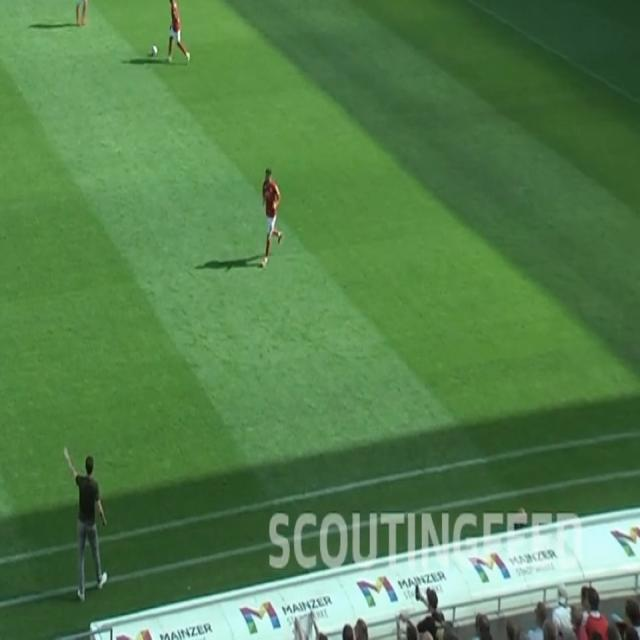ball: (150, 44, 158, 58)
